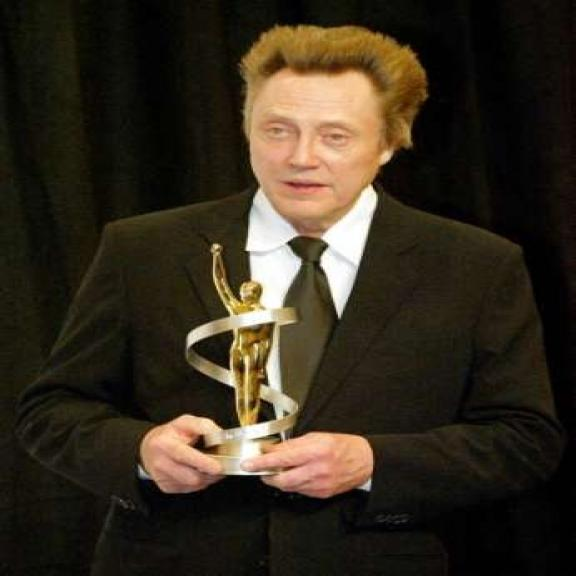face: (236, 88, 402, 223)
